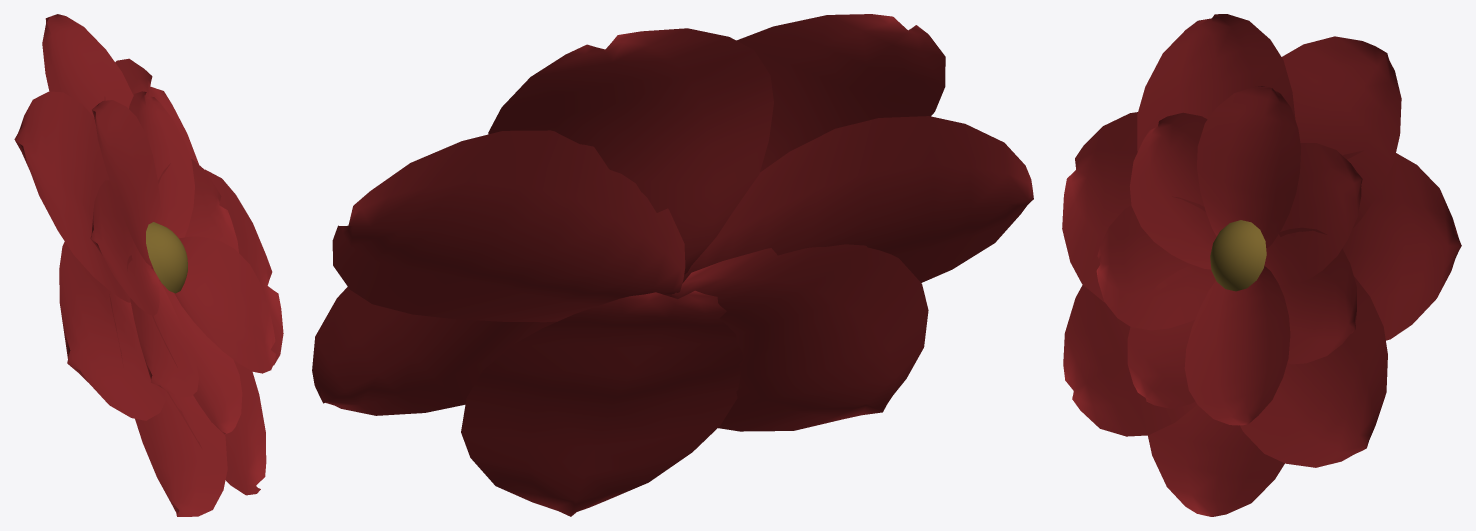
Rendered from MaskFlowerRight.fbx.
3 views of the same model, side by side, from view 1: azimuth 30°, elevation 25°; view 2: azimuth 150°, elevation 25°; view 3: azimuth 270°, elevation 25° (orthographic). The views are drawn at different scales.
Parts seen in each view (by area): view 1: FlowerRight; view 2: FlowerRight; view 3: FlowerRight.
Boxes of the visible parts, left/top/right/bottom form: FlowerRight: left=14, top=14, right=283, bottom=516; FlowerRight: left=312, top=14, right=1033, bottom=516; FlowerRight: left=1062, top=14, right=1461, bottom=516.
Bounding box in the file's own units: 13.77 × 15.98 × 13.94.
